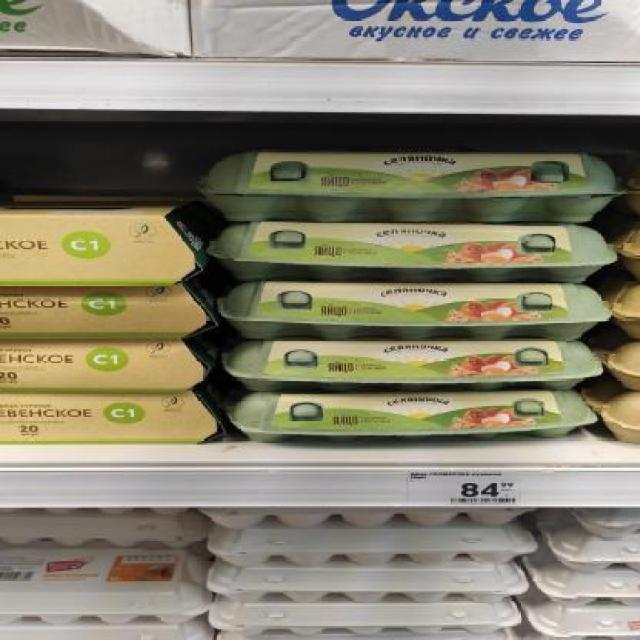Egg: (193, 143, 629, 222), (205, 221, 621, 284), (220, 279, 609, 337), (224, 339, 605, 392), (227, 390, 595, 443), (0, 546, 211, 625)
